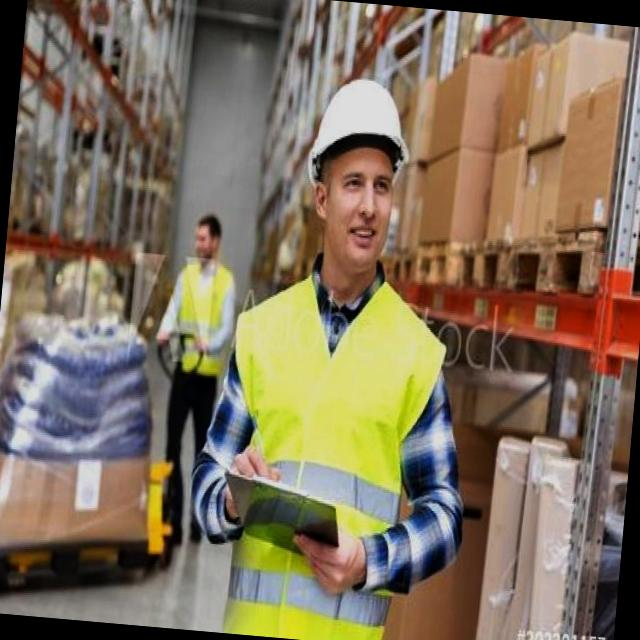vest: (216, 275, 441, 638), (168, 258, 235, 380)
